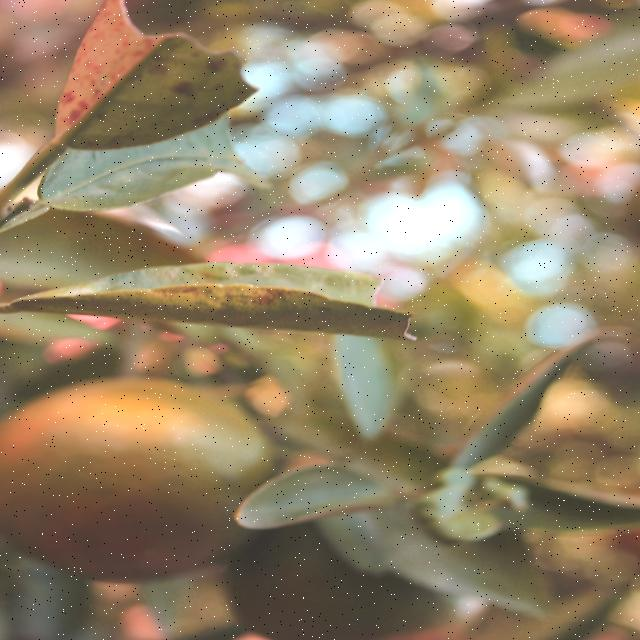melanose: (1, 252, 412, 338), (49, 0, 252, 153)
